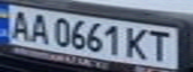0: (48, 15, 72, 47)
1: (103, 23, 124, 57)
6: (84, 20, 106, 54), (66, 18, 87, 51)
A: (3, 7, 33, 40), (24, 11, 51, 44)
K: (124, 25, 151, 61)
T: (145, 28, 178, 62)
